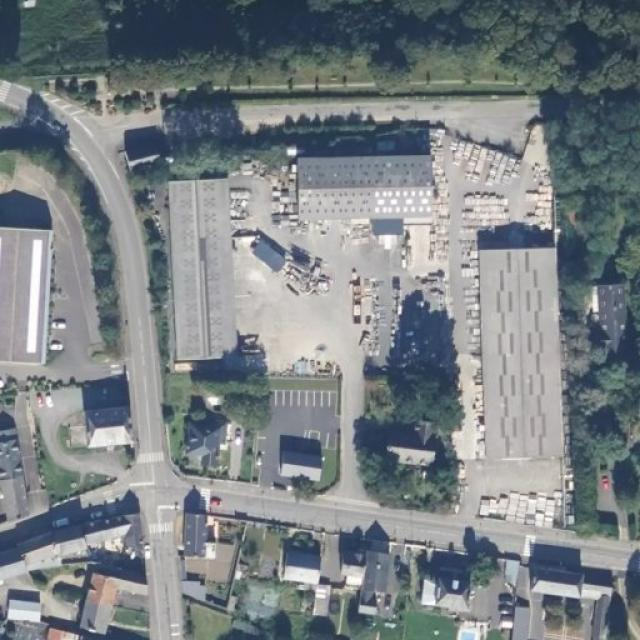maison: (532, 548, 640, 638), (39, 506, 152, 569), (177, 502, 253, 588), (418, 570, 512, 624), (168, 402, 239, 471), (349, 532, 405, 616), (85, 578, 151, 639), (276, 532, 338, 591), (67, 404, 131, 452), (385, 420, 441, 465), (1, 589, 58, 626)
piscine: (457, 623, 485, 640)
usine: (473, 241, 571, 460), (158, 168, 244, 358), (289, 136, 442, 218), (0, 219, 58, 373)
